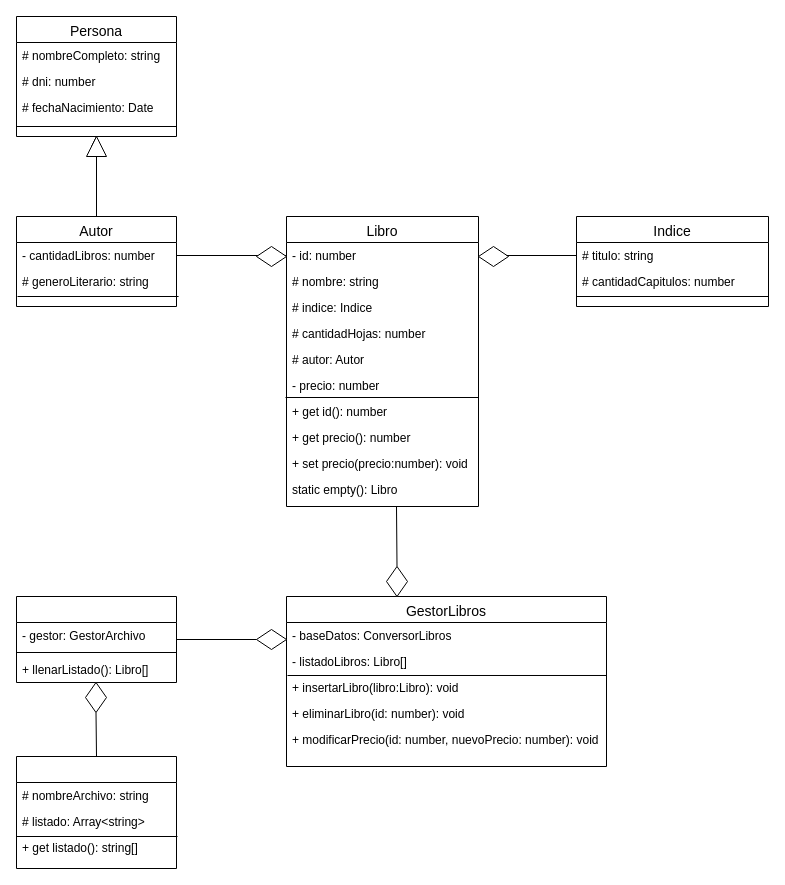
Some shapes in this 785 by 885 pixel diagram are drawn without their labels. Each missing label, with the box of its shape:
ConversorLibros: (16, 596, 176, 682)
GestorArchivo: (16, 756, 176, 868)
